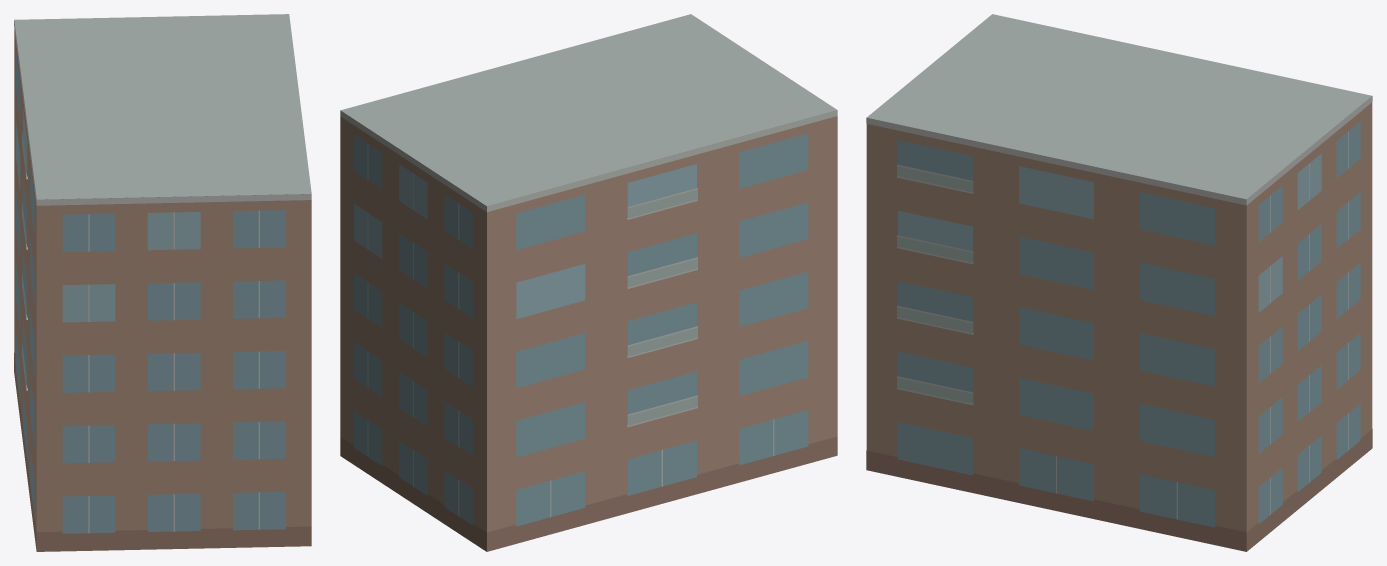
Rendered from survey-upis-32658609.glb.
3 renders of one model, left to right at view 1: azimuth 30°, elevation 25°; view 2: azimuth 150°, elevation 25°; view 3: azimuth 270°, elevation 25°, orthographic.
Parts seen in each view (by area): view 1: survey-upis-32658609.tmp; view 2: survey-upis-32658609.tmp; view 3: survey-upis-32658609.tmp.
Boxes of the visible parts, left/top/right/bottom form: survey-upis-32658609.tmp: left=14, top=14, right=311, bottom=551; survey-upis-32658609.tmp: left=340, top=14, right=837, bottom=551; survey-upis-32658609.tmp: left=866, top=14, right=1372, bottom=551.
Bounding box in the file's own units: 15.8 × 14 × 18.22.
